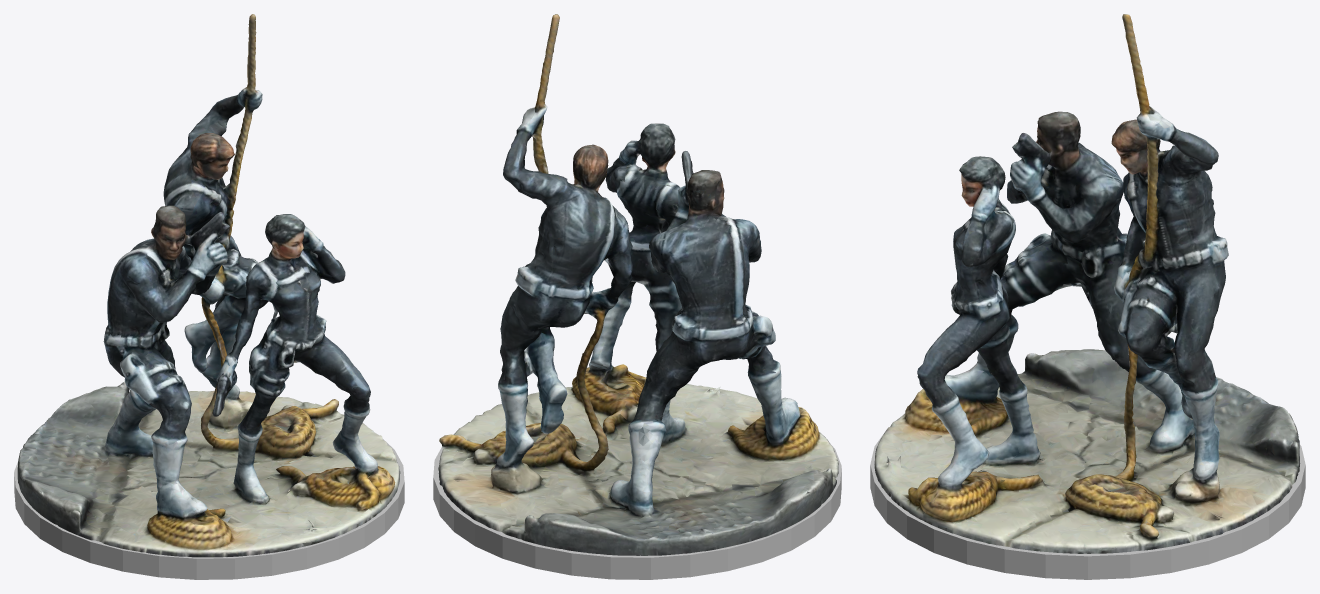
3 renders of one model, left to right at view 1: azimuth 30°, elevation 25°; view 2: azimuth 150°, elevation 25°; view 3: azimuth 270°, elevation 25°, orthographic. The views are drawn at different scales.
Visible parts, largest first — view 1: Agents, default; view 2: Agents, default; view 3: Agents, default.
Part boxes in pixels (x1,y1,x2,y2): Agents: (17,14,400,557); default: (14,433,404,579); Agents: (438,14,838,555); default: (433,434,841,579); Agents: (874,14,1300,553); default: (870,429,1305,579).
Size of the model in its own units: 1.97 by 2.53 by 1.97.
Materials: 2 (1 with a texture image).
